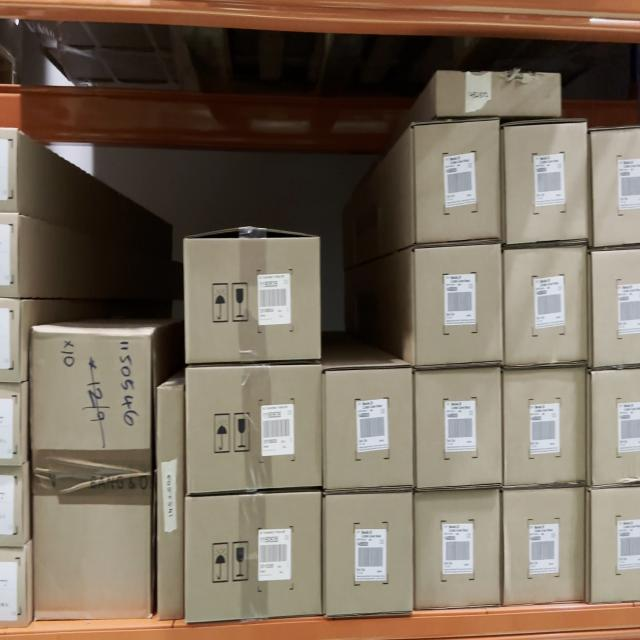box: (34, 334, 147, 617), (186, 241, 320, 360), (188, 370, 320, 489), (189, 501, 320, 612), (326, 497, 414, 614), (327, 378, 412, 486), (507, 127, 586, 240), (418, 496, 501, 603), (422, 251, 501, 362), (506, 373, 585, 483), (418, 373, 499, 480), (420, 130, 500, 237), (506, 254, 585, 361), (506, 496, 582, 601), (157, 390, 182, 616), (440, 72, 561, 115)
